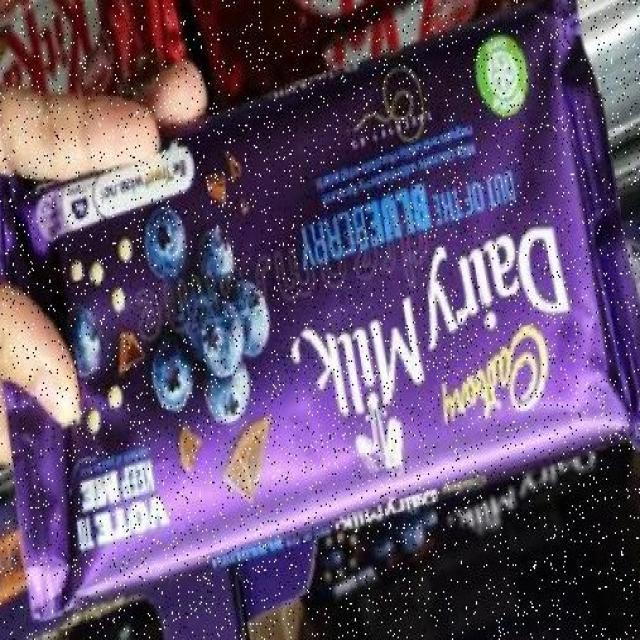Dry Waste: (3, 0, 639, 619)
